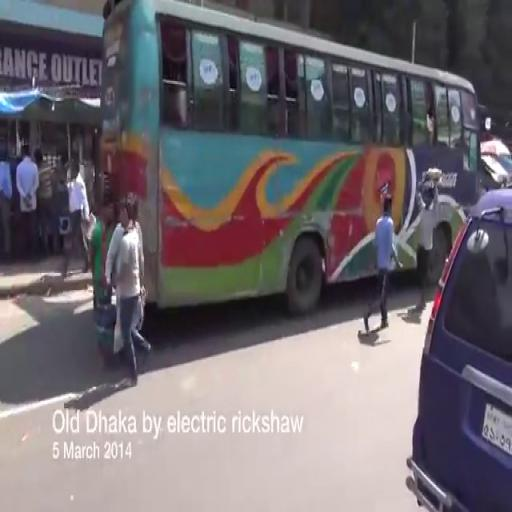bus: (91, 4, 492, 328)
car: (402, 179, 511, 509)
